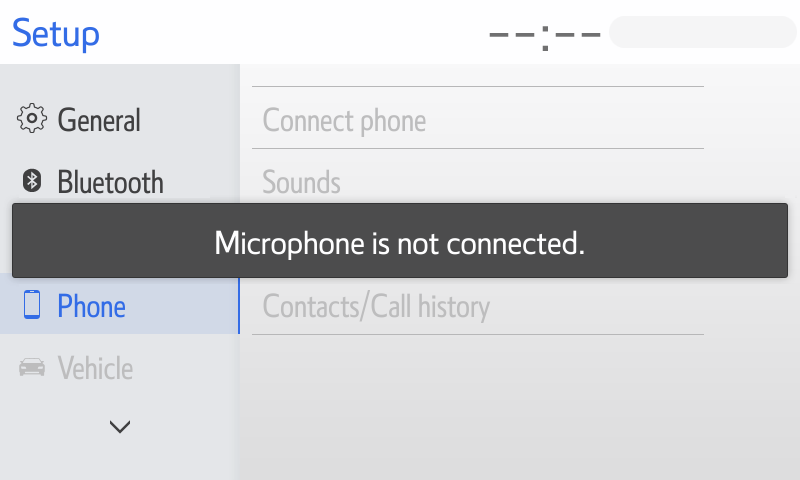touchPart: (15, 162, 164, 197), (14, 102, 148, 139), (111, 410, 138, 441)
untouchPart: (250, 270, 708, 344), (252, 82, 705, 155), (252, 146, 703, 206), (1, 273, 242, 337), (475, 9, 798, 50), (20, 351, 137, 387), (6, 13, 102, 53)
